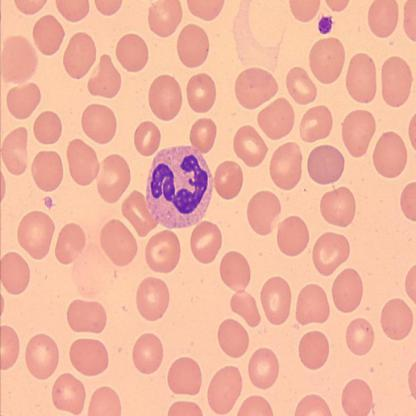Segmented neutrophil: (143, 142, 216, 230)
